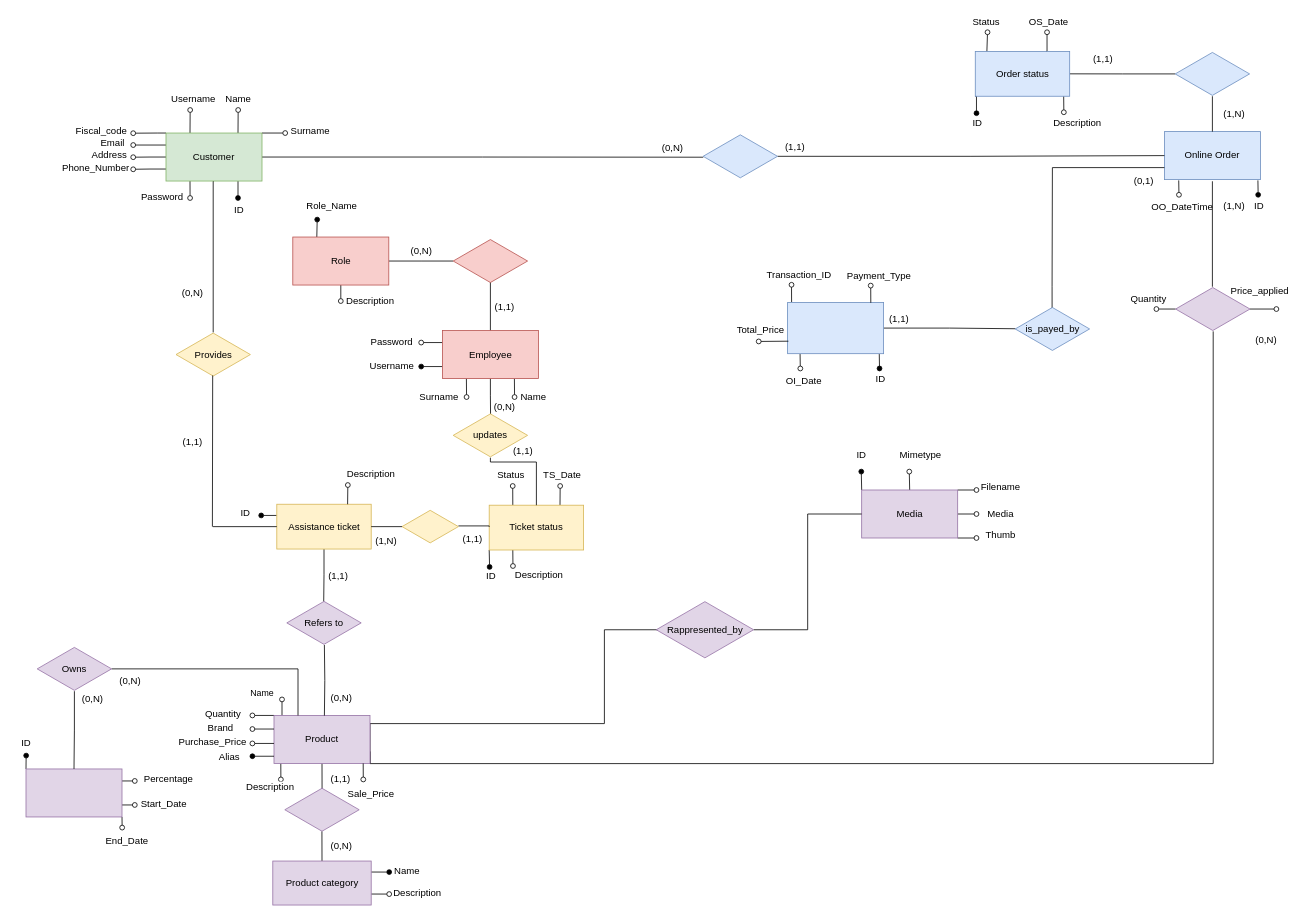
The diagram is 1309 pixels wide and 919 high, and some of its shapes have lost their labels. The shapes that lost their labels are listed below. From the top down, each one's centre as x and y in pixels, then its label:
At point (1212, 73): "Keep".
At point (740, 156): "Make".
At point (490, 260): "Work_as".
At point (835, 328): "Online Invoice".
At point (1212, 308): "Contains".
At point (429, 526): "has".
At point (73, 792): "Discount".
At point (321, 809): "Belong".
